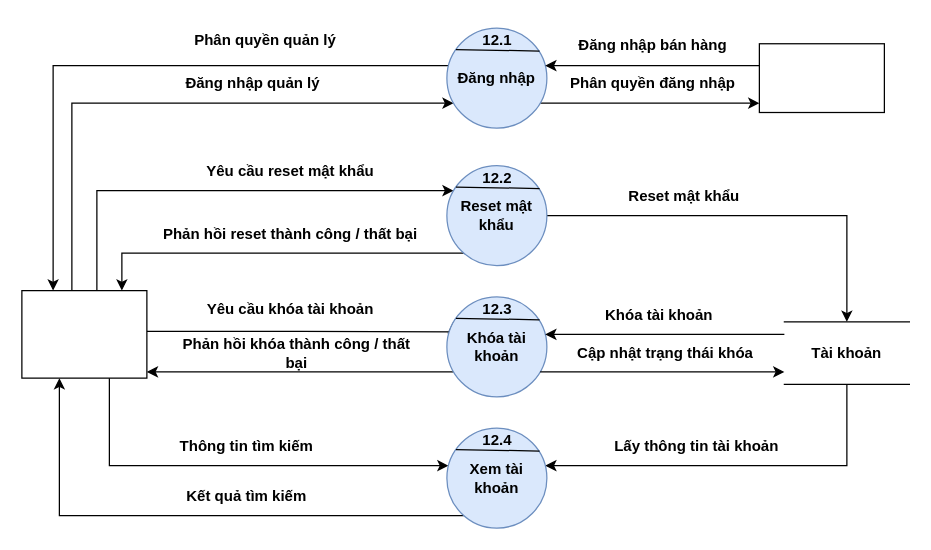
This 931x550 diagram has some shape labels left out. Each missing label, with the centre of its shape:
Nhân viên: the point at 821,77
Quản lý: the point at 84,333
